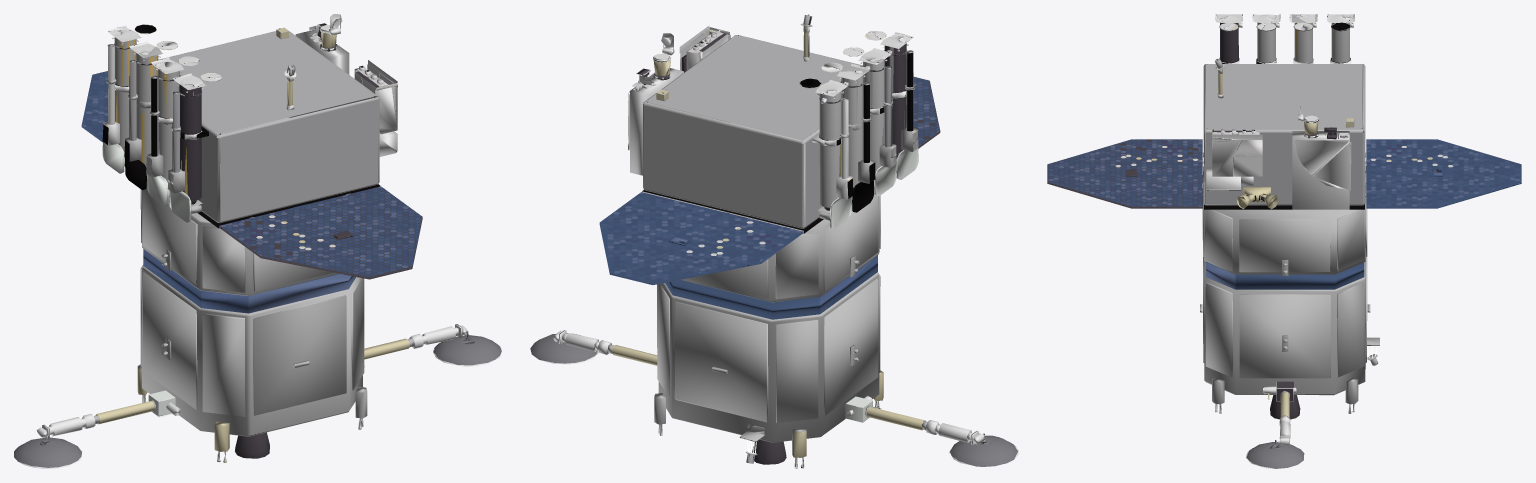
Rendered from sdo.glb.
3 views of the same model, side by side, from view 1: azimuth 30°, elevation 25°; view 2: azimuth 150°, elevation 25°; view 3: azimuth 270°, elevation 25° (orthographic). The views are drawn at different scales.
Parts seen in each view (by area): view 1: Fake; view 2: Fake; view 3: Fake.
Part boxes in pixels (x1=…): Fake: x1=14, y1=14, x2=501, y2=468; Fake: x1=530, y1=14, x2=1018, y2=468; Fake: x1=1047, y1=14, x2=1521, y2=468.
Bounding box in the file's own units: 37.02 × 30.75 × 37.03.
Materials: 2 (2 with a texture image).
